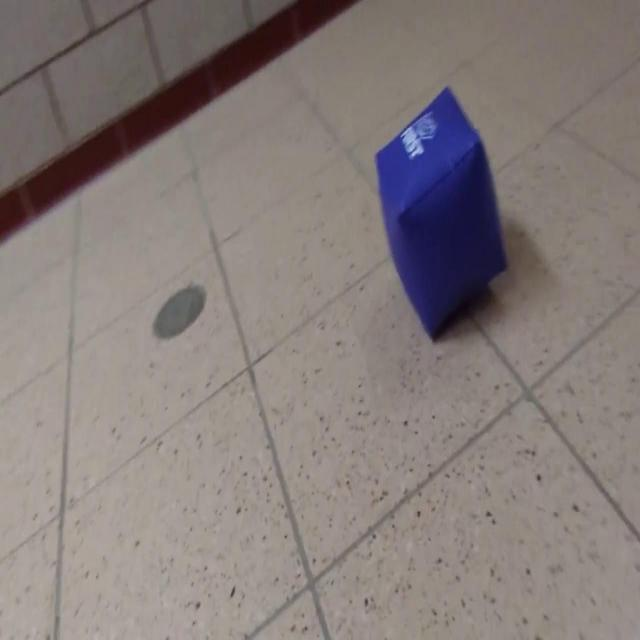frc_cube: (375, 85, 509, 335)
